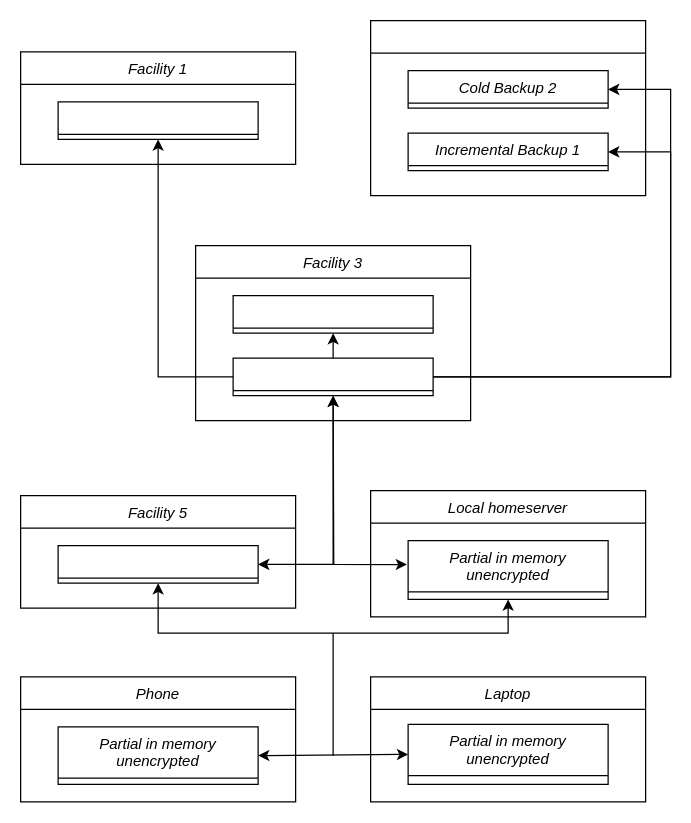
This 691x823 diagram has some shape labels left out. The shapes that lost their labels are listed below. From the top down, each one's centre as x and y in pixels, then its label:
[157,120]: Cold Backup 1
[507,107]: Facility 2
[332,313]: Incremental Backup 2
[332,376]: Whole E2EE accesible data
[157,563]: Partial E2EE accesible data
